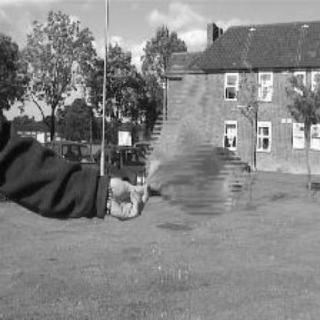other: (140, 69, 260, 219)
